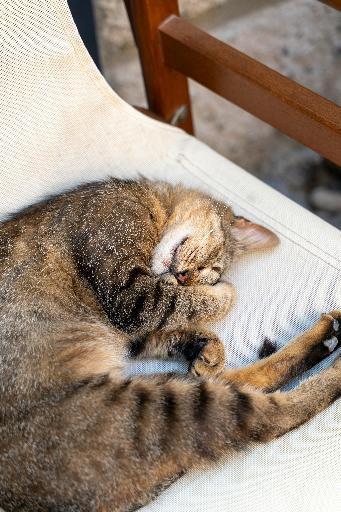cat_sleeping: (0, 178, 341, 512)
